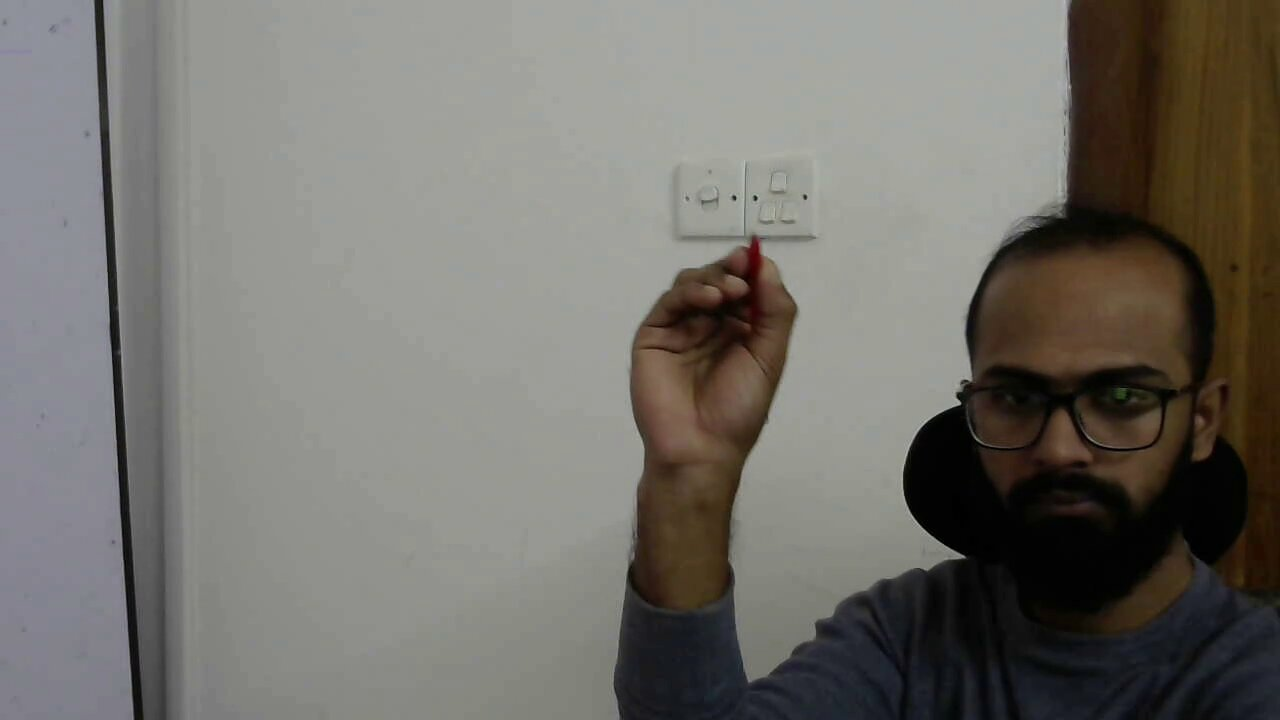pointer: (645, 241, 808, 383)
